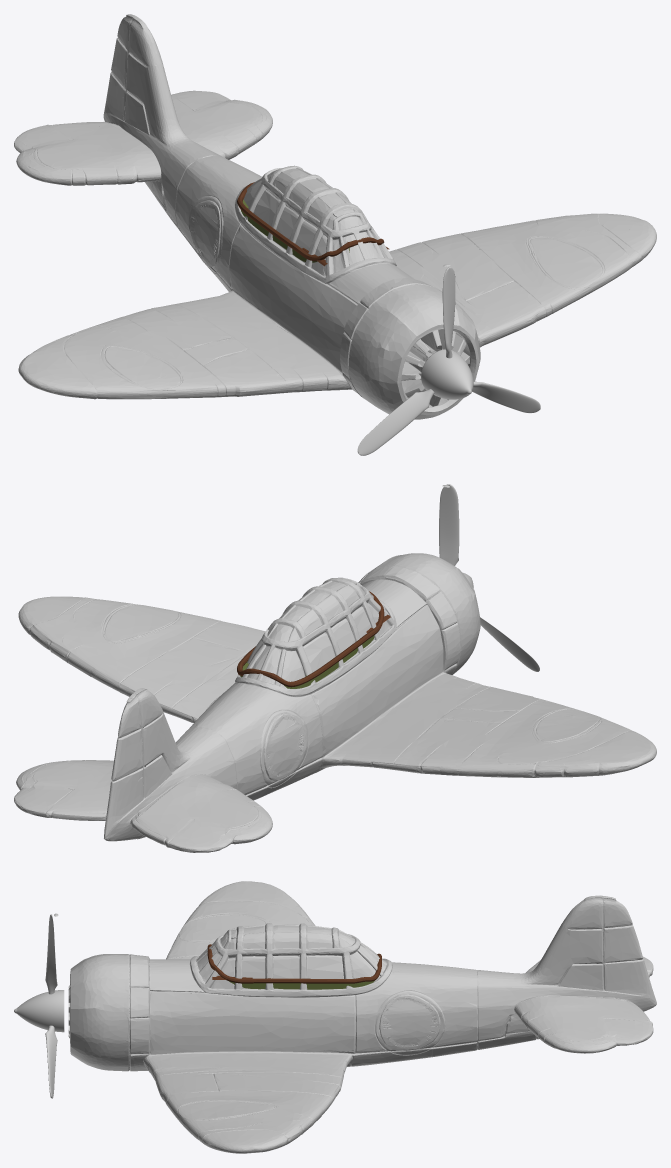
Rendered from Zero.fbx.
3 renders of one model, top to bottom at view 1: azimuth 30°, elevation 25°; view 2: azimuth 150°, elevation 25°; view 3: azimuth 270°, elevation 25°, orthographic. The views are drawn at different scales.
Visible parts, largest first — view 1: Zero_Body, Zero_Canopy, Zero_Propeller, Pit_Static, Zero_ElevatorR, Zero_Rudder, Zero_ElevatorL, Zero_AileronL; view 2: Zero_Body, Zero_Canopy, Zero_Rudder, Zero_Propeller, Zero_ElevatorR, Zero_ElevatorL, Zero_AileronL, Pit_Static, Zero_AileronR; view 3: Zero_Body, Zero_Canopy, Zero_Rudder, Zero_Propeller, Pit_Static, Zero_ElevatorL, Zero_AileronL.
Boxes of the visible parts, left/top/right/bottom form: Zero_Body: left=14, top=14, right=656, bottom=419; Zero_Canopy: left=244, top=165, right=380, bottom=260; Zero_Propeller: left=357, top=267, right=540, bottom=455; Pit_Static: left=237, top=182, right=389, bottom=266; Zero_ElevatorR: left=14, top=122, right=103, bottom=160; Zero_Rudder: left=108, top=16, right=131, bottom=108; Zero_ElevatorL: left=171, top=93, right=253, bottom=112; Zero_AileronL: left=551, top=213, right=638, bottom=230; Zero_Body: left=14, top=485, right=656, bottom=852; Zero_Canopy: left=246, top=577, right=380, bottom=686; Zero_Rudder: left=108, top=698, right=146, bottom=801; Zero_Propeller: left=439, top=484, right=539, bottom=671; Zero_ElevatorR: left=144, top=813, right=253, bottom=850; Zero_ElevatorL: left=14, top=775, right=103, bottom=820; Zero_AileronL: left=18, top=602, right=97, bottom=679; Pit_Static: left=237, top=591, right=390, bottom=688; Zero_AileronR: left=490, top=747, right=638, bottom=777; Zero_Body: left=54, top=881, right=656, bottom=1153; Zero_Canopy: left=210, top=923, right=379, bottom=985; Zero_Rudder: left=600, top=900, right=648, bottom=978; Zero_Propeller: left=14, top=914, right=64, bottom=1098; Pit_Static: left=207, top=944, right=381, bottom=989; Zero_ElevatorL: left=596, top=1003, right=647, bottom=1050; Zero_AileronL: left=239, top=1106, right=325, bottom=1151.
Size of the model in its own units: 11.99 by 3.52 by 12.13.
